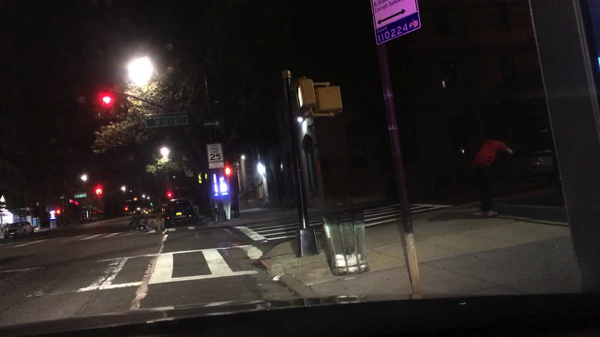car: (163, 199, 197, 227), (3, 220, 35, 239)
person: (466, 129, 513, 219), (230, 184, 242, 220)
traffic light: (315, 86, 345, 115), (293, 77, 316, 112), (90, 94, 102, 122), (103, 93, 111, 118), (225, 166, 231, 179), (97, 188, 101, 197), (166, 192, 171, 198), (56, 210, 61, 215)
traffic sign: (371, 1, 421, 46), (144, 116, 188, 129), (206, 145, 224, 171), (202, 118, 223, 129), (74, 194, 88, 199)
